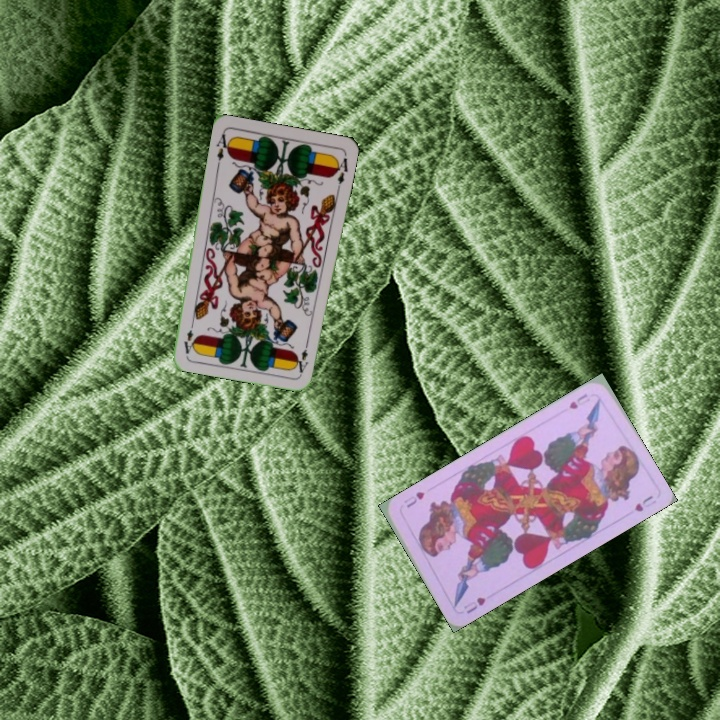EA: (212, 130, 234, 169), (295, 336, 311, 375)
HU: (459, 593, 488, 616), (565, 390, 591, 412)
